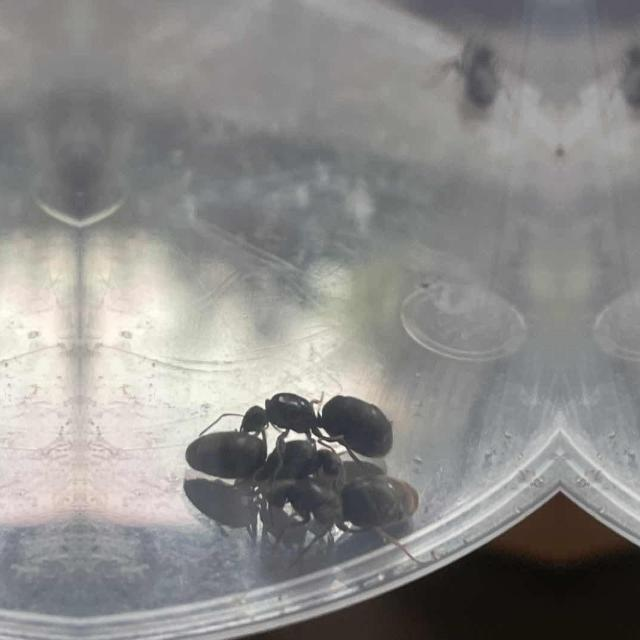Lasius: (208, 333, 400, 477), (262, 444, 438, 576), (175, 408, 348, 492), (436, 32, 518, 126), (600, 30, 640, 126)
